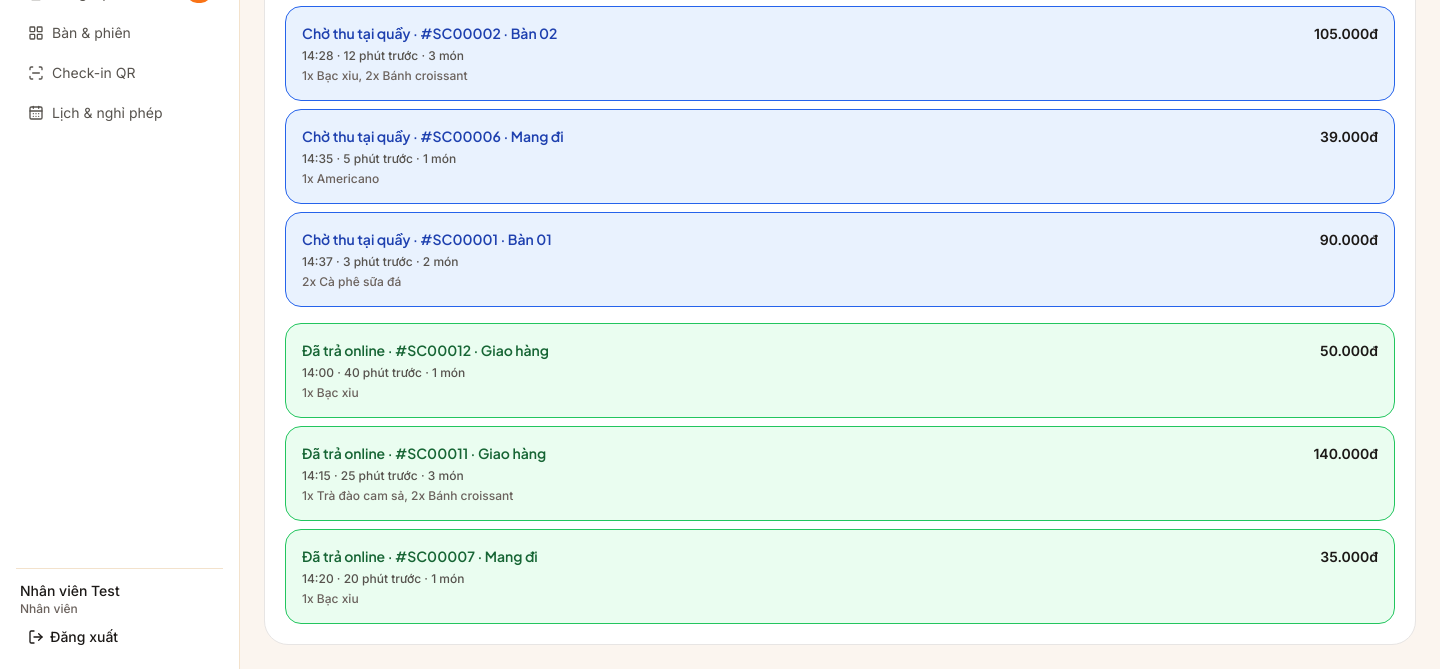
Test: Tab Thu ngân › đơn đã trả online: modal không có nút thu tiền
(page scrolled)
Step 1. Click the button with aria-label "Mở hóa đơn #SC00007, Đã trả online" → point(344, 556), box [285,529,1395,624]
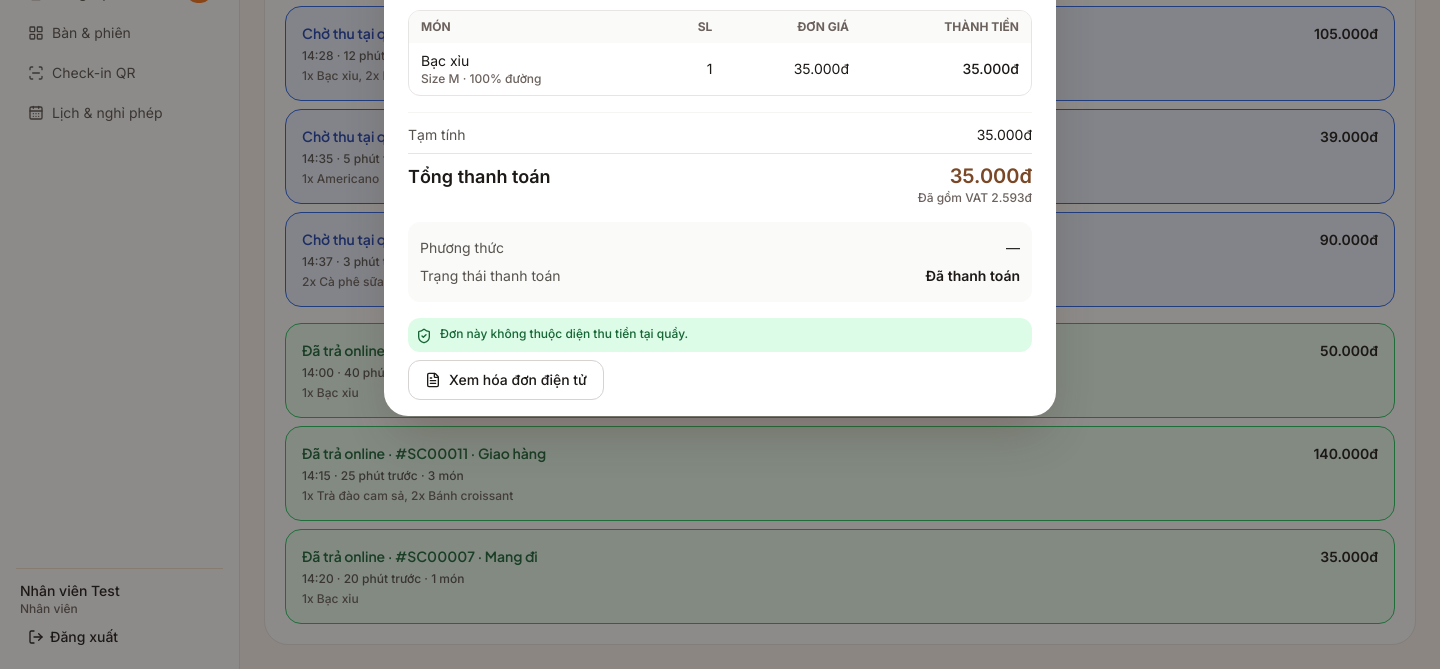
Check: the text "Đã thanh toán" is shown, box [926,266,1020,286]
Check: the button "Xem hóa đơn điện tử" is shown, box [408,360,604,400]
